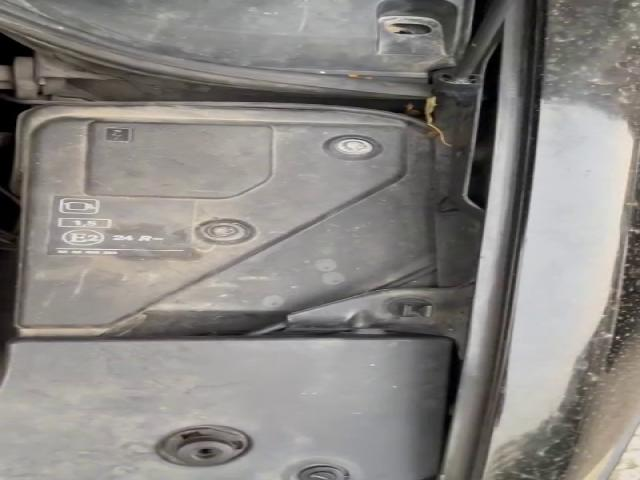fuse_box: (17, 117, 415, 328)
